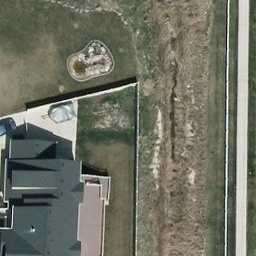car: (1, 113, 16, 136)
